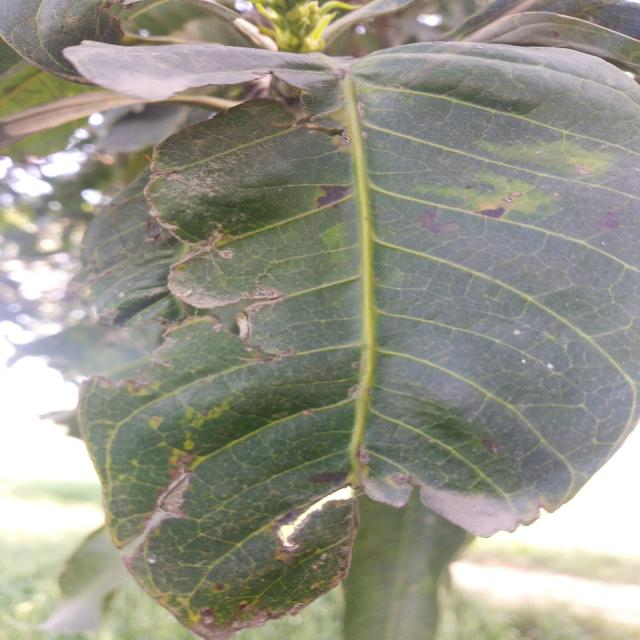Anthracnose: (311, 183, 359, 208), (470, 202, 511, 227)
